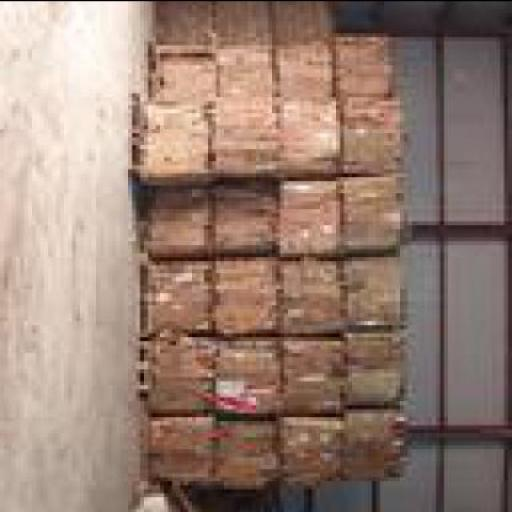cardboard: (212, 108, 284, 184), (340, 408, 412, 484), (152, 340, 220, 420), (152, 260, 216, 344), (148, 108, 212, 188), (344, 180, 408, 260), (216, 260, 280, 340), (220, 340, 284, 420), (284, 336, 344, 420), (280, 104, 344, 180), (280, 184, 344, 260), (348, 260, 412, 336), (280, 265, 348, 336), (348, 100, 408, 180), (152, 188, 216, 260), (348, 336, 412, 407), (212, 188, 276, 256), (156, 420, 220, 488), (280, 416, 340, 487), (220, 420, 276, 492), (336, 36, 396, 100), (160, 48, 220, 108), (276, 44, 336, 100), (268, 4, 336, 44), (220, 52, 272, 104), (160, 4, 217, 48), (220, 4, 272, 48)
